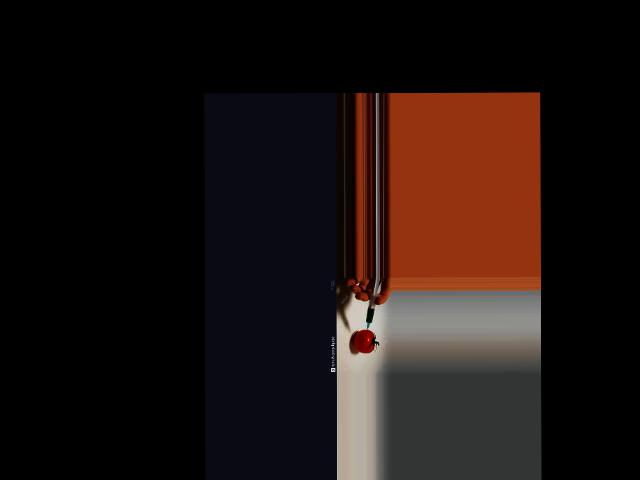tomato: (353, 329, 374, 352)
